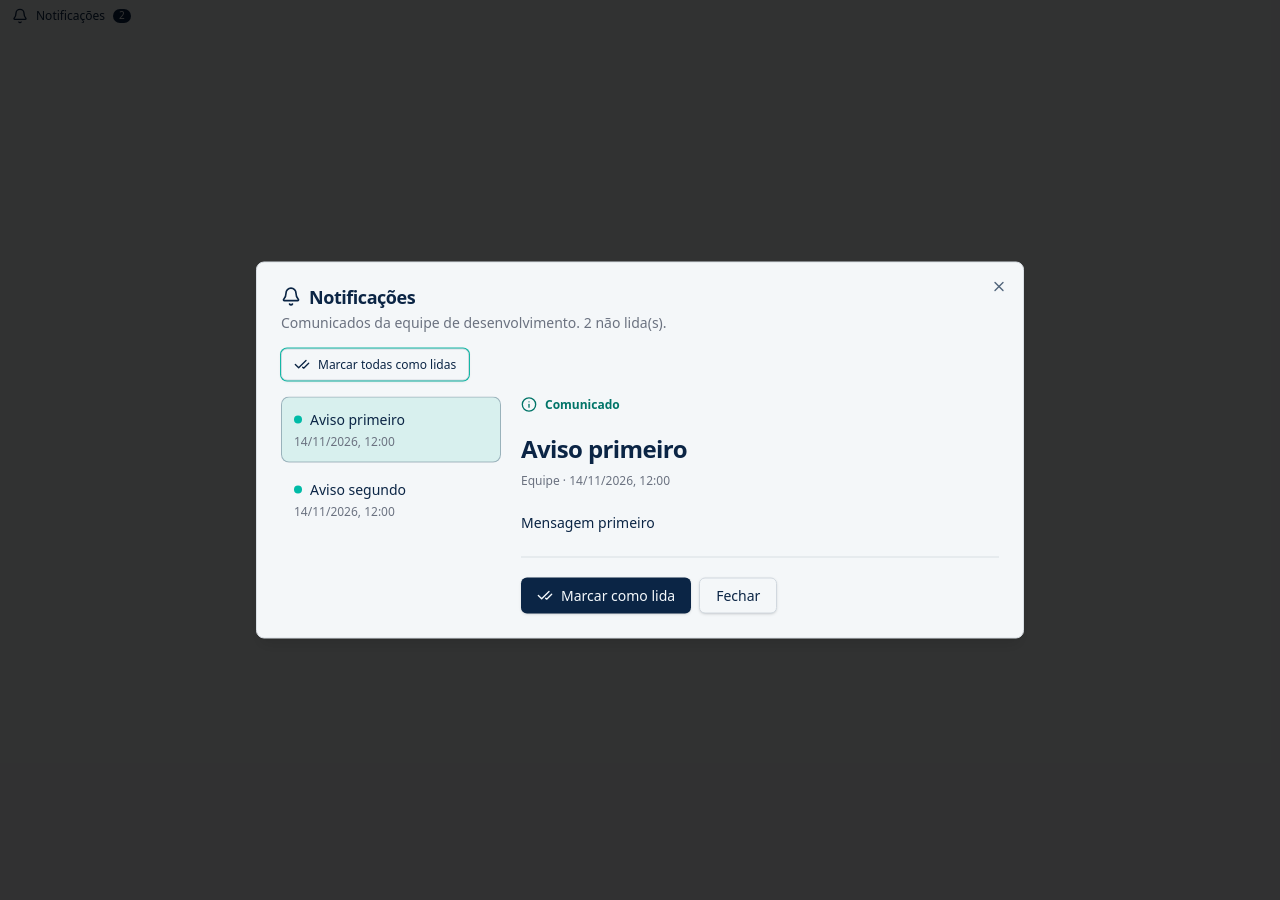
Test: Novos comunicados › marca todas as não lidas e atualiza o indicador
Later steps or results of the test are not shown.
Expected: the dialog is shown, [256,262,1024,638]
Click the button "Marcar todas como lidas": (375, 364) [281,348,469,380]
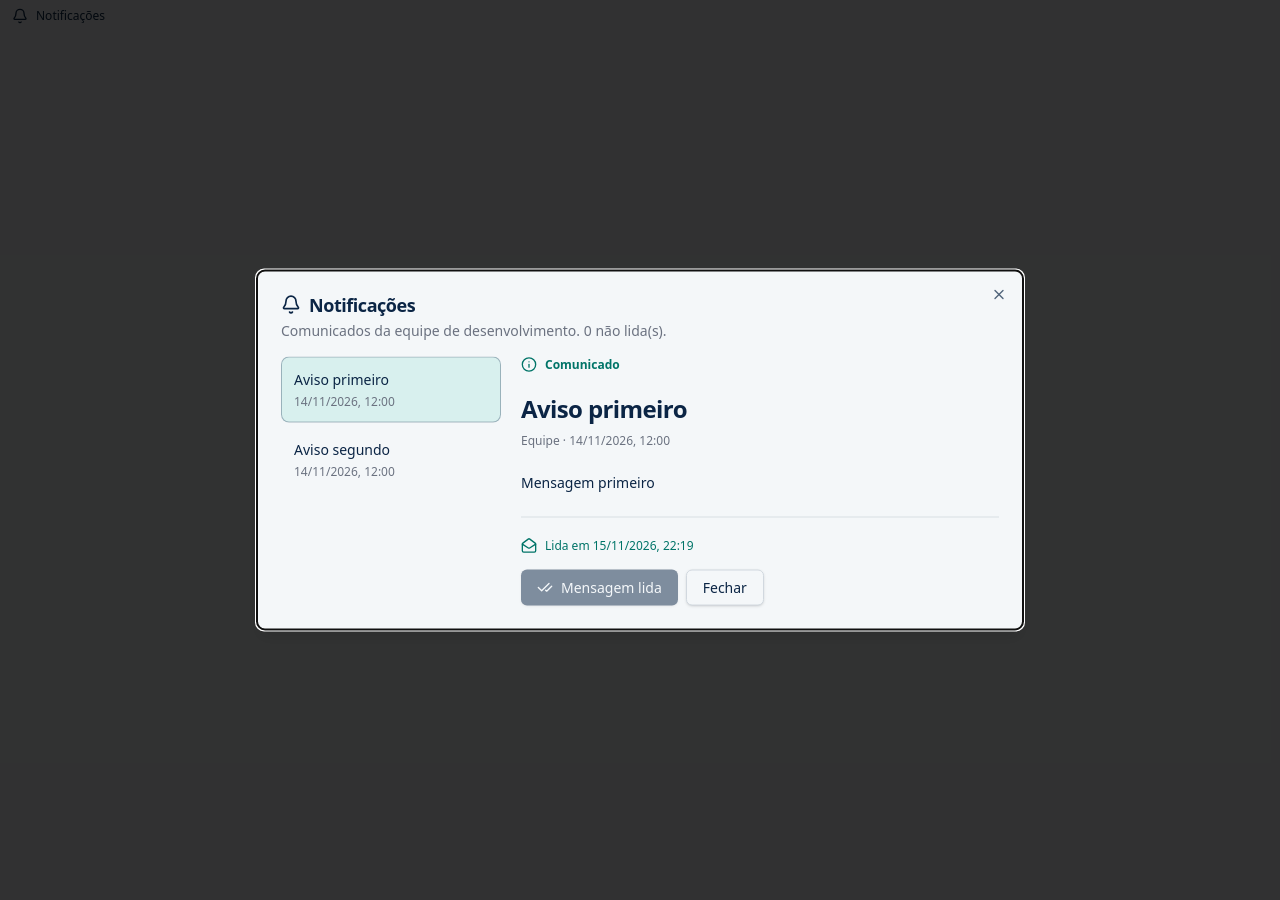
Expected: the button "Mensagem lida" is disabled, [521,570,678,606]
